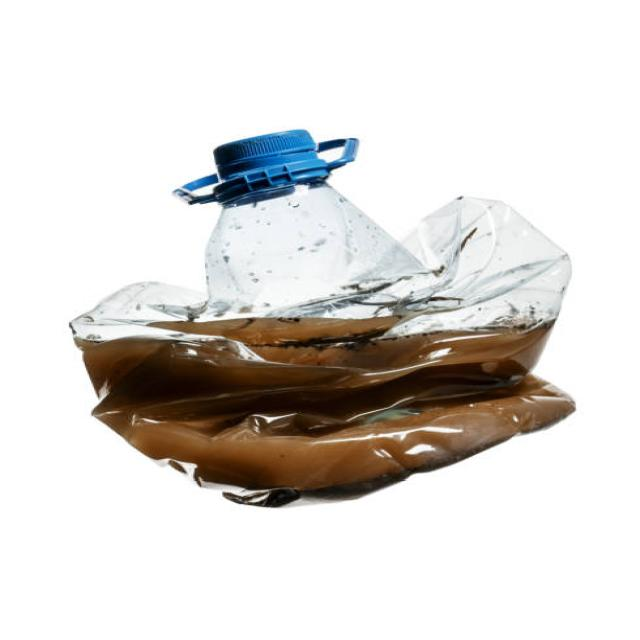plastic: (107, 112, 585, 492)
